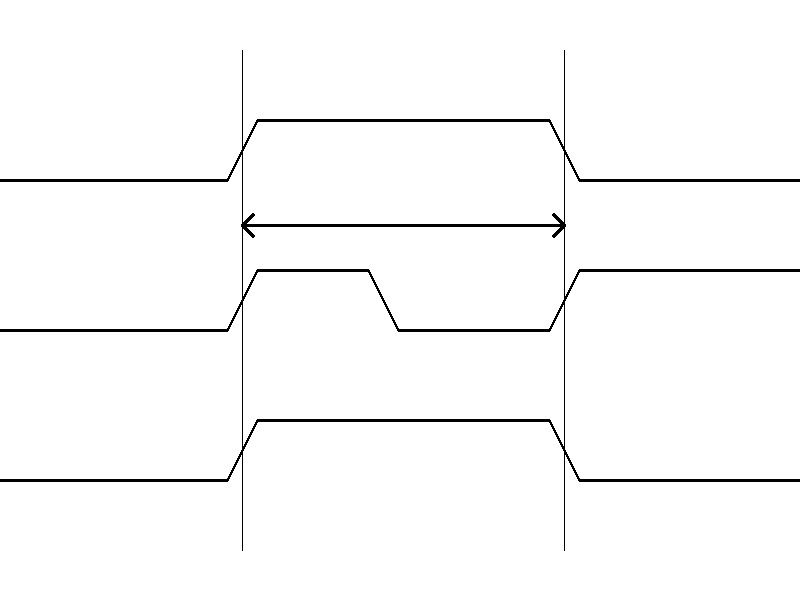double_arrow: (242, 210, 564, 240)
